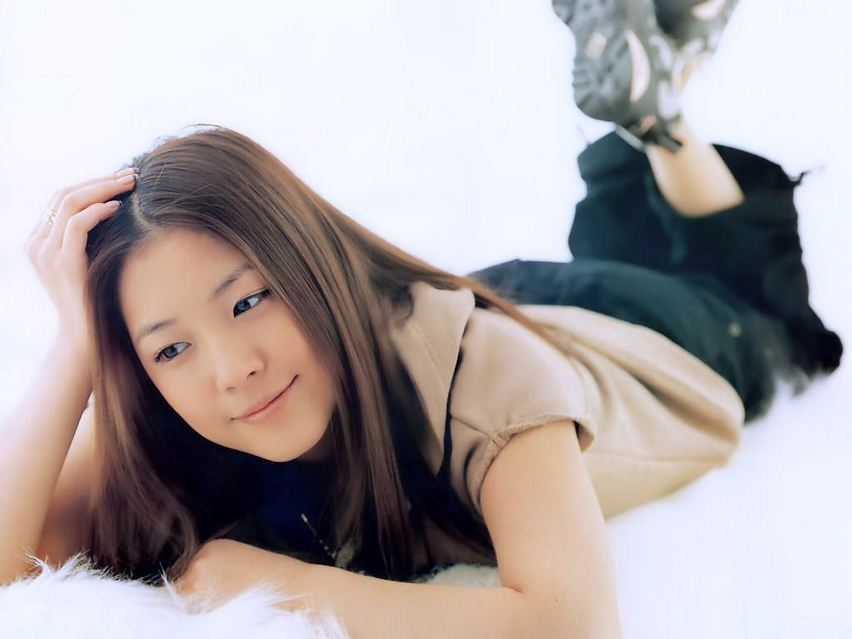person: (61, 108, 742, 624)
